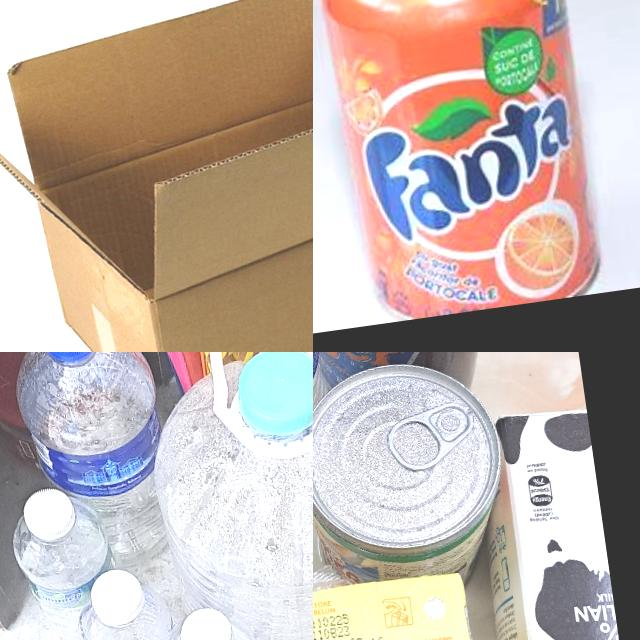aba de lata: (382, 400, 481, 476)
caixinha: (459, 403, 625, 640), (313, 567, 480, 640)
garrafa plástica: (0, 0, 313, 352), (137, 352, 313, 640), (7, 352, 179, 576), (5, 491, 125, 640), (68, 582, 186, 640)
lata: (313, 0, 603, 326), (313, 352, 516, 607)
tampa plástica: (229, 352, 313, 441), (86, 566, 147, 630), (21, 486, 78, 544), (177, 604, 237, 640), (38, 352, 99, 366)
